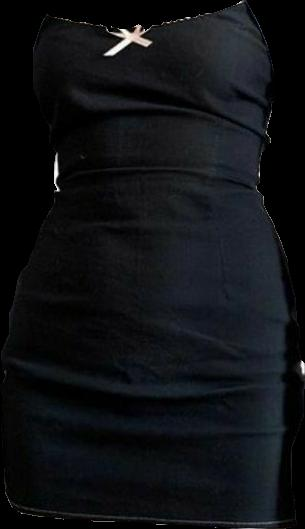Bodice: (33, 0, 274, 187)
Hemline: (7, 500, 297, 528)
Neckline: (45, 0, 245, 35)
Skirt: (0, 186, 304, 527)
